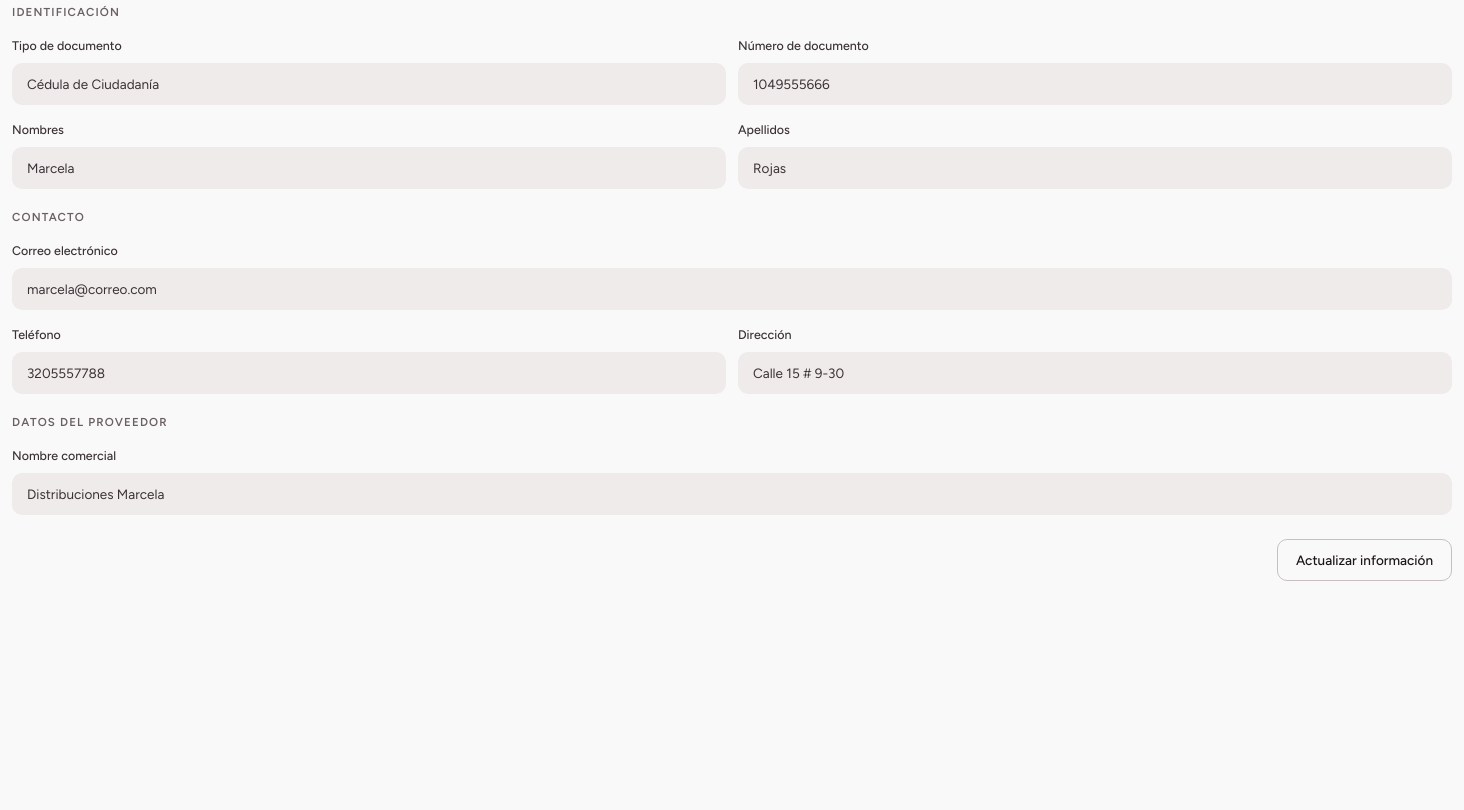
Test: SupplierDataForm preloaded fields › preloads names and only offers personal documents to a natural person
Click the button "Actualizar información": (1364, 560) [1277,539,1452,581]
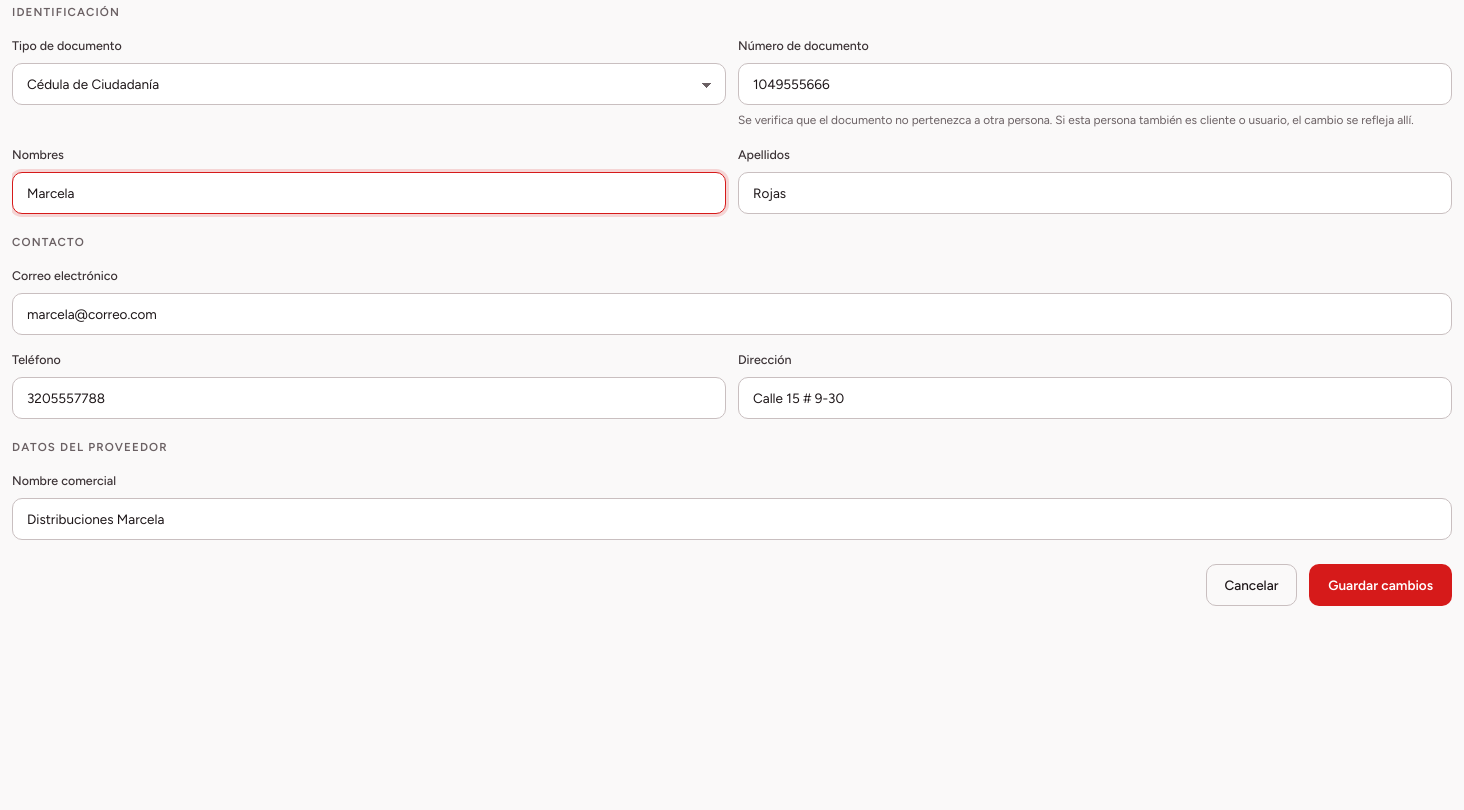
Check: the field labelled "Número de documento" holds "1049555666", box [738,63,1452,105]
Check: the dropdown labelled "Tipo de documento" shows "Cédula de Ciudadanía", box [12,63,726,105]
